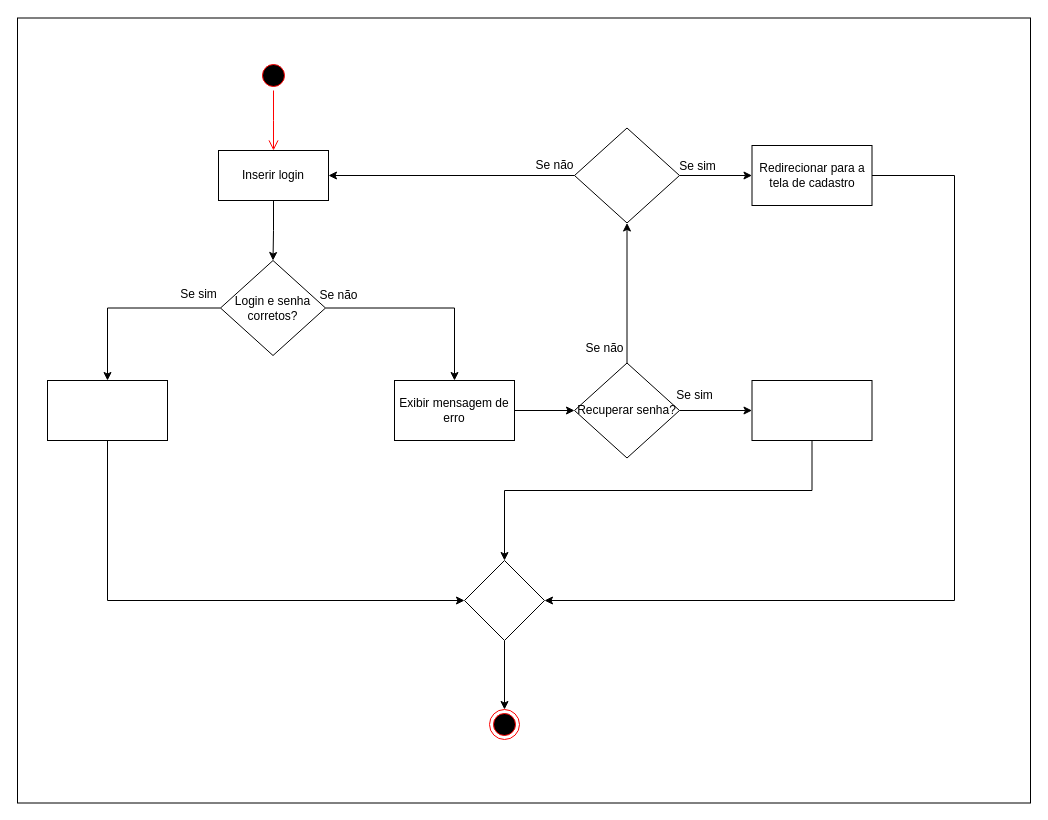
The diagram is 1048 pixels wide and 820 high, and some of its shapes have lost their labels. The shapes that lost their labels are listed below. From the top down, each one's box as (x1, y1, x2, y2) in pixels, then its label:
(574, 127, 680, 223): Cadastar?
(46, 380, 168, 440): Redirecionar para a Tela principal
(751, 380, 872, 440): Redirecionar para a tela de recuperação
